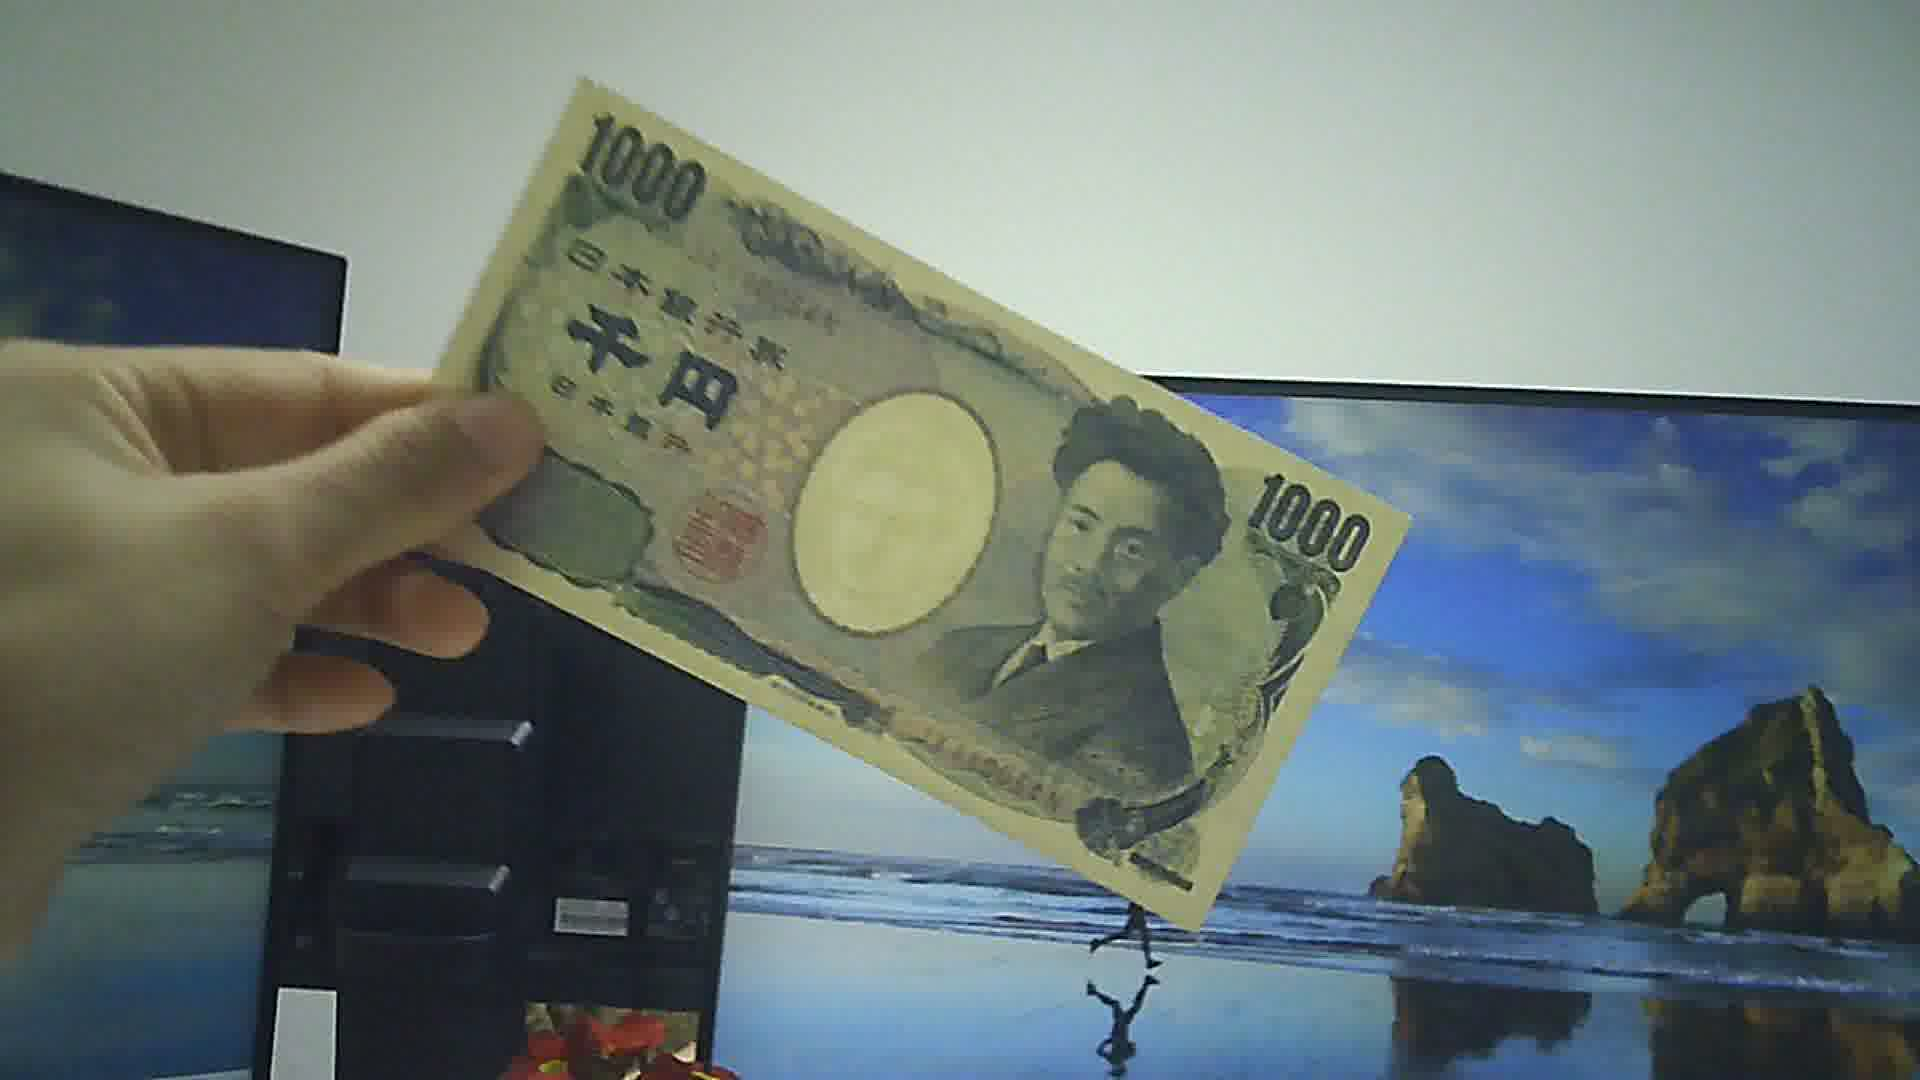1,000 Yen: (396, 75, 1414, 938)
